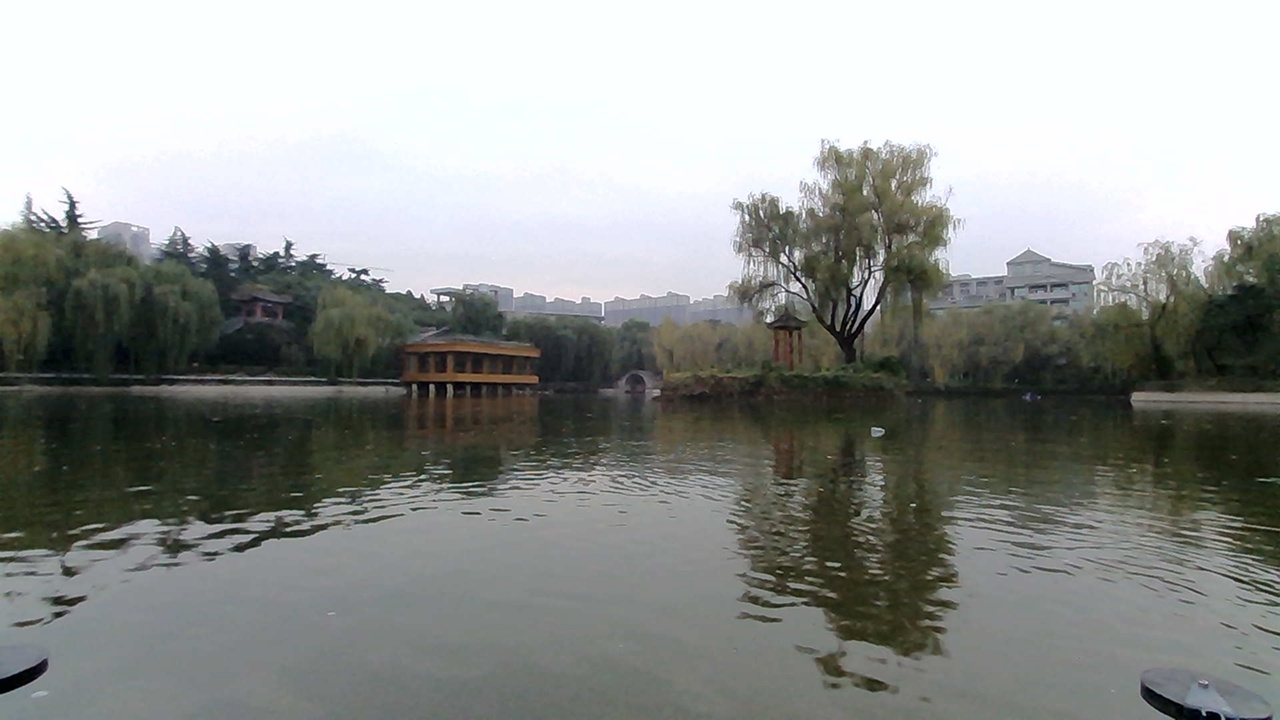bottle: (855, 412, 910, 444)
